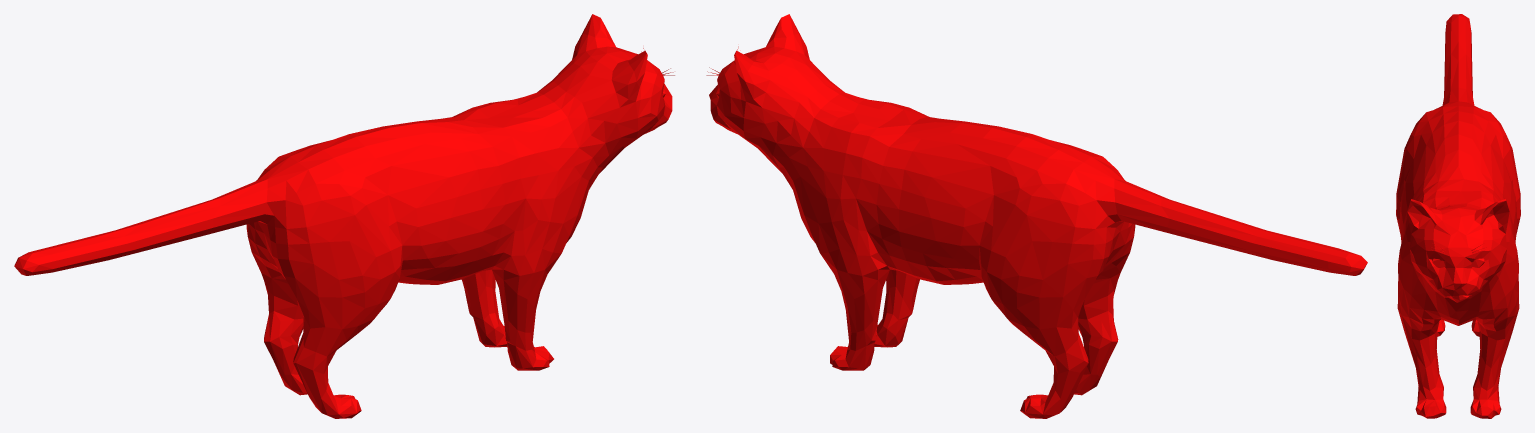
Rendered from cat.obj.
3 renders of one model, left to right at view 1: azimuth 30°, elevation 25°; view 2: azimuth 150°, elevation 25°; view 3: azimuth 270°, elevation 25°, orthographic. The views are drawn at different scales.
Parts seen in each view (by area): view 1: cat; view 2: cat; view 3: cat.
Part boxes in pixels (x1,y1,x2,y2): cat: [14, 14, 674, 418]; cat: [706, 14, 1367, 418]; cat: [1396, 14, 1520, 418].
Bounding box in the file's own units: 762 × 331 × 144.
